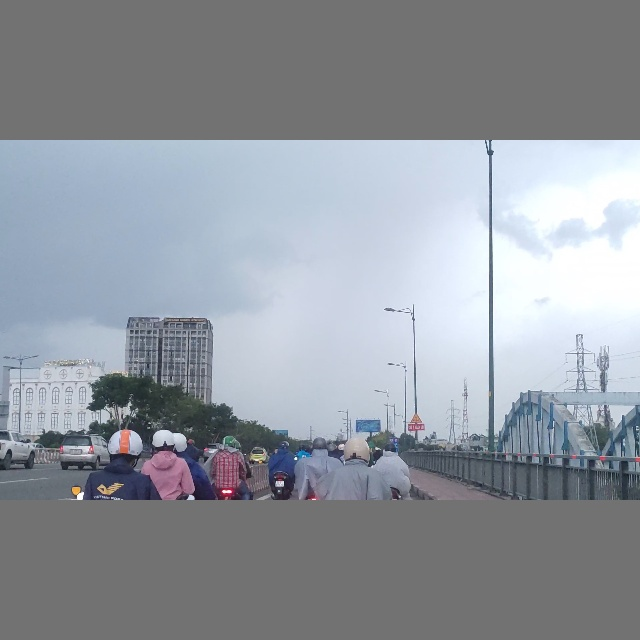W.245a: (409, 412, 423, 423)
